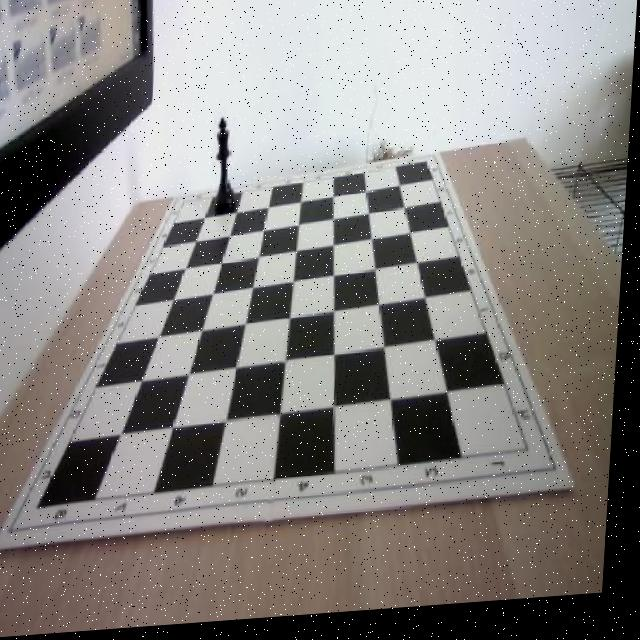black-bishop: (213, 117, 243, 220)
